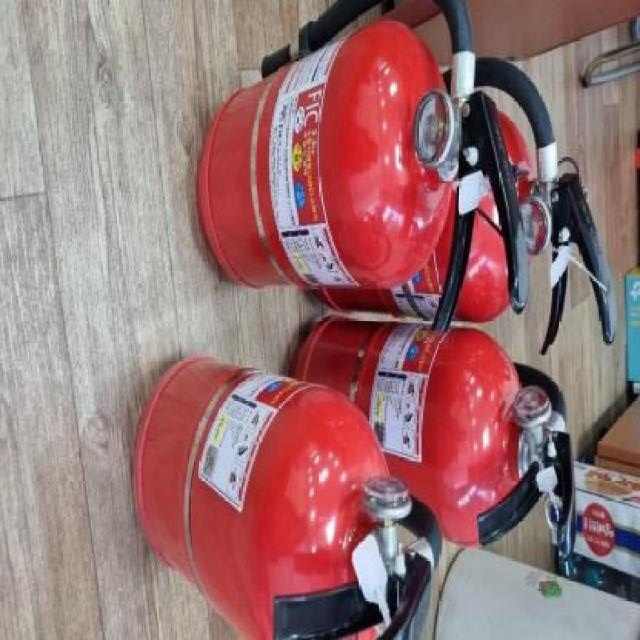fire extinguisher: (194, 3, 529, 334), (311, 55, 617, 357), (131, 355, 444, 640), (291, 314, 577, 580)
